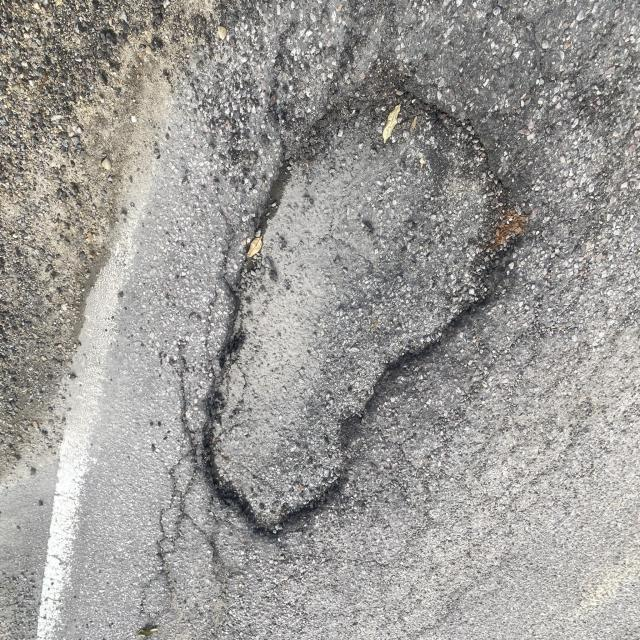Pothole: (169, 44, 534, 558)
